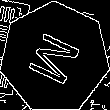M_SE: (23, 26, 87, 89)
